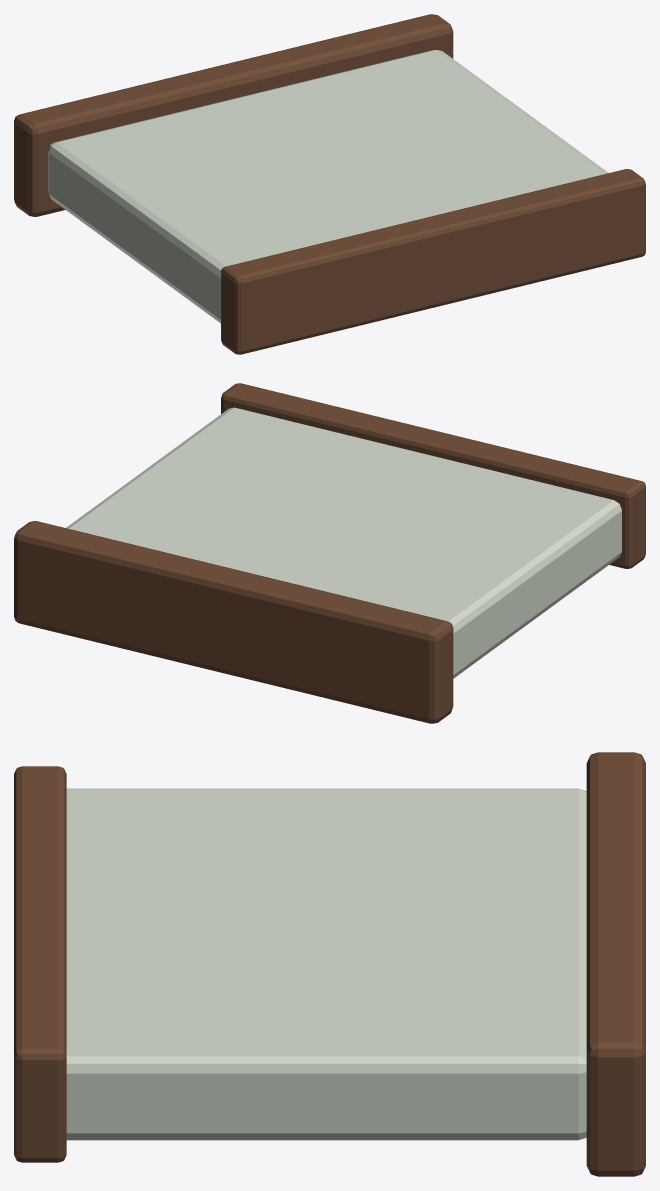
Rendered from wall.glb.
The picture shows the model from 3 angles, top to bottom: view 1: azimuth 30°, elevation 25°; view 2: azimuth 150°, elevation 25°; view 3: azimuth 270°, elevation 25°; orthographic projection. The views are drawn at different scales.
Parts seen in each view (by area): view 1: 粉墙, 墙脚, 压顶木梁; view 2: 粉墙, 压顶木梁, 墙脚; view 3: 粉墙, 压顶木梁, 墙脚.
Part boxes in pixels (x1,y1,x2,y2): 粉墙: (48,50,608,323); 墙脚: (221,169,645,354); 压顶木梁: (14,14,453,216); 粉墙: (66,407,621,678); 压顶木梁: (14,521,453,723); 墙脚: (221,383,645,568); 粉墙: (66,788,586,1140); 压顶木梁: (586,752,645,1176); 墙脚: (14,766,66,1162).
Size of the model in its own units: 2.15 by 0.45 by 1.92.
